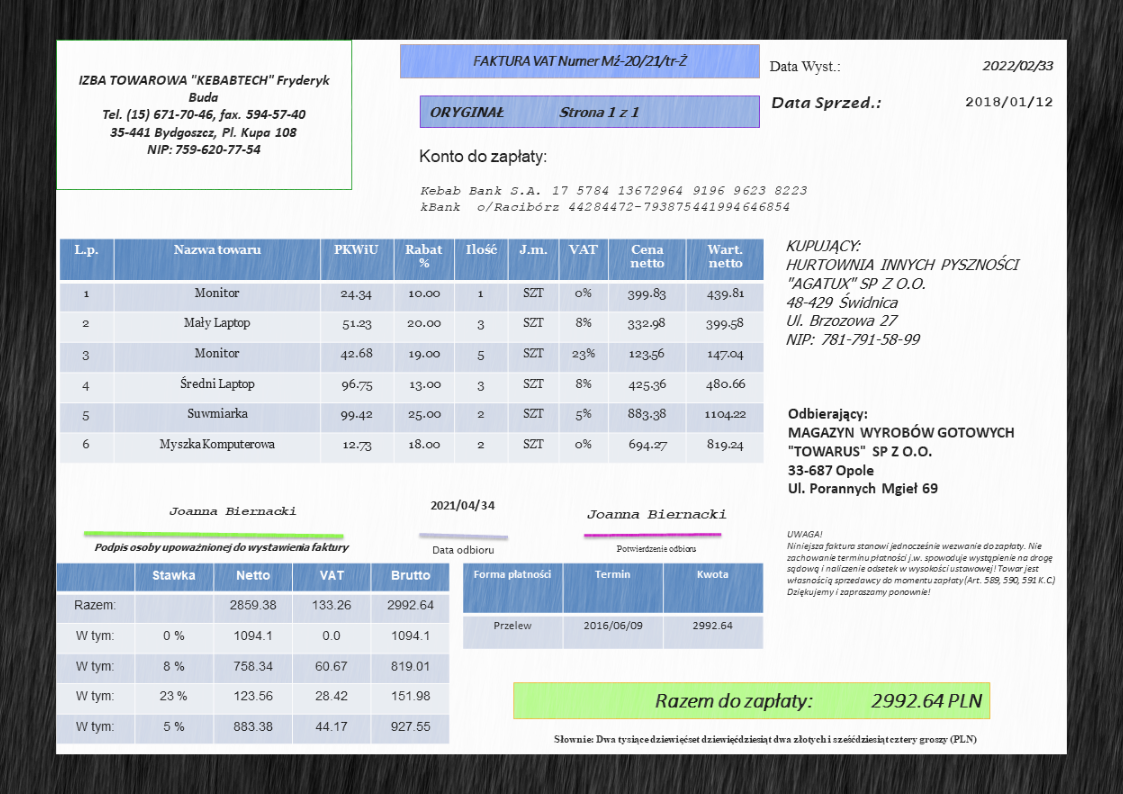Table: (58, 238, 764, 464), (57, 562, 451, 744), (462, 563, 764, 650)
TextBox: (783, 236, 1022, 348), (77, 72, 332, 158), (786, 405, 1016, 499), (785, 527, 1058, 599), (419, 183, 810, 215), (653, 690, 984, 714), (551, 732, 979, 747), (471, 52, 690, 70), (92, 539, 349, 554), (428, 103, 643, 120), (417, 146, 549, 168), (770, 93, 881, 114), (584, 507, 728, 522), (168, 504, 297, 518), (962, 93, 1055, 110), (767, 58, 841, 75), (979, 58, 1057, 74), (428, 497, 496, 515), (615, 543, 698, 554), (430, 544, 494, 556)
